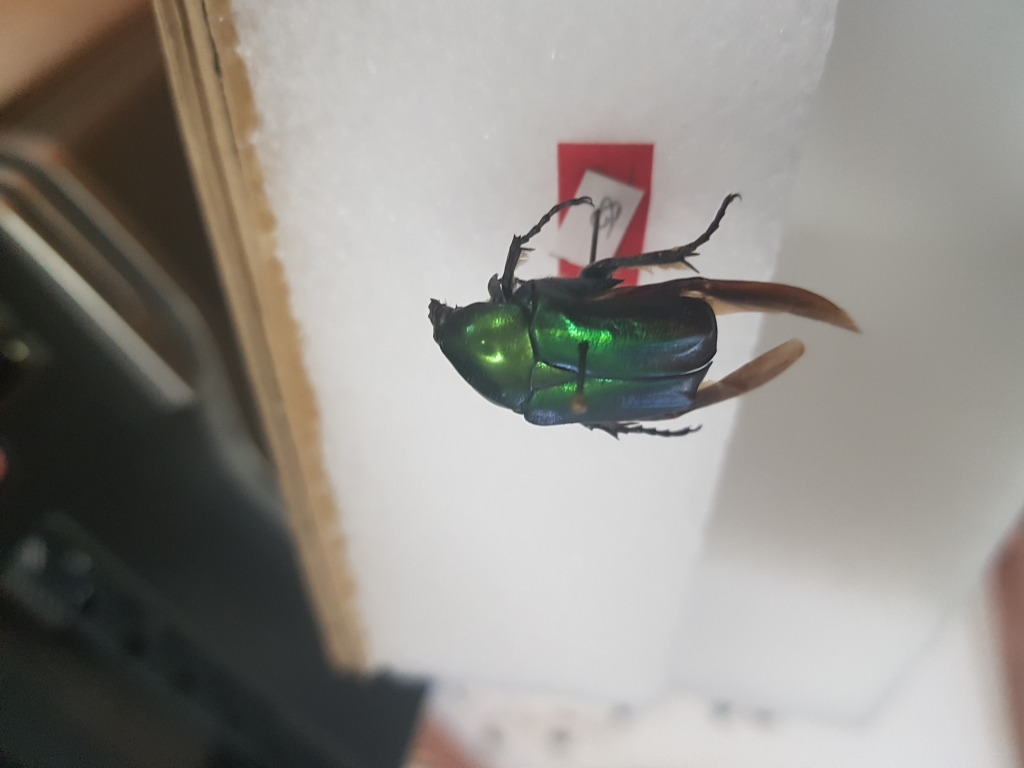Protaetia_besucheti: (425, 190, 871, 455)
